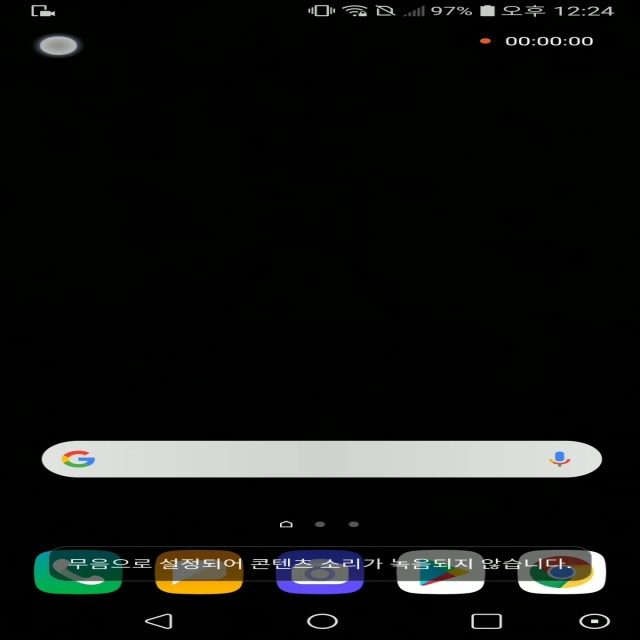Cursor: (35, 36, 80, 58)
